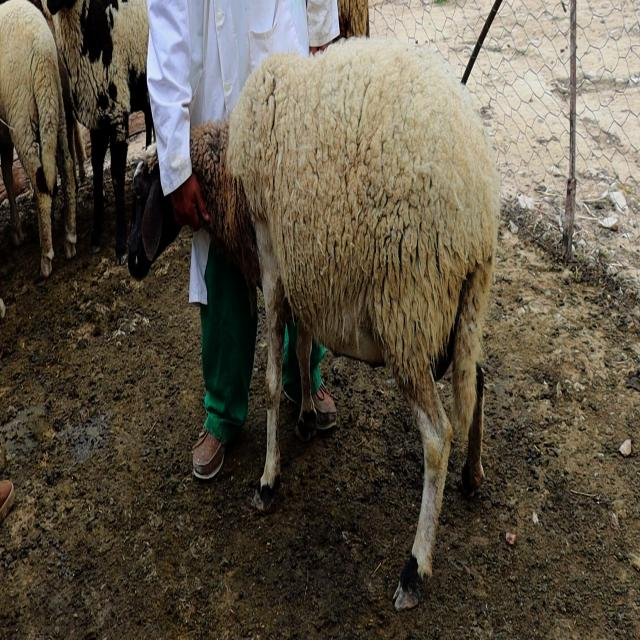Score_5: (191, 38, 500, 609)
